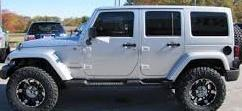SUV: (1, 7, 241, 111)
